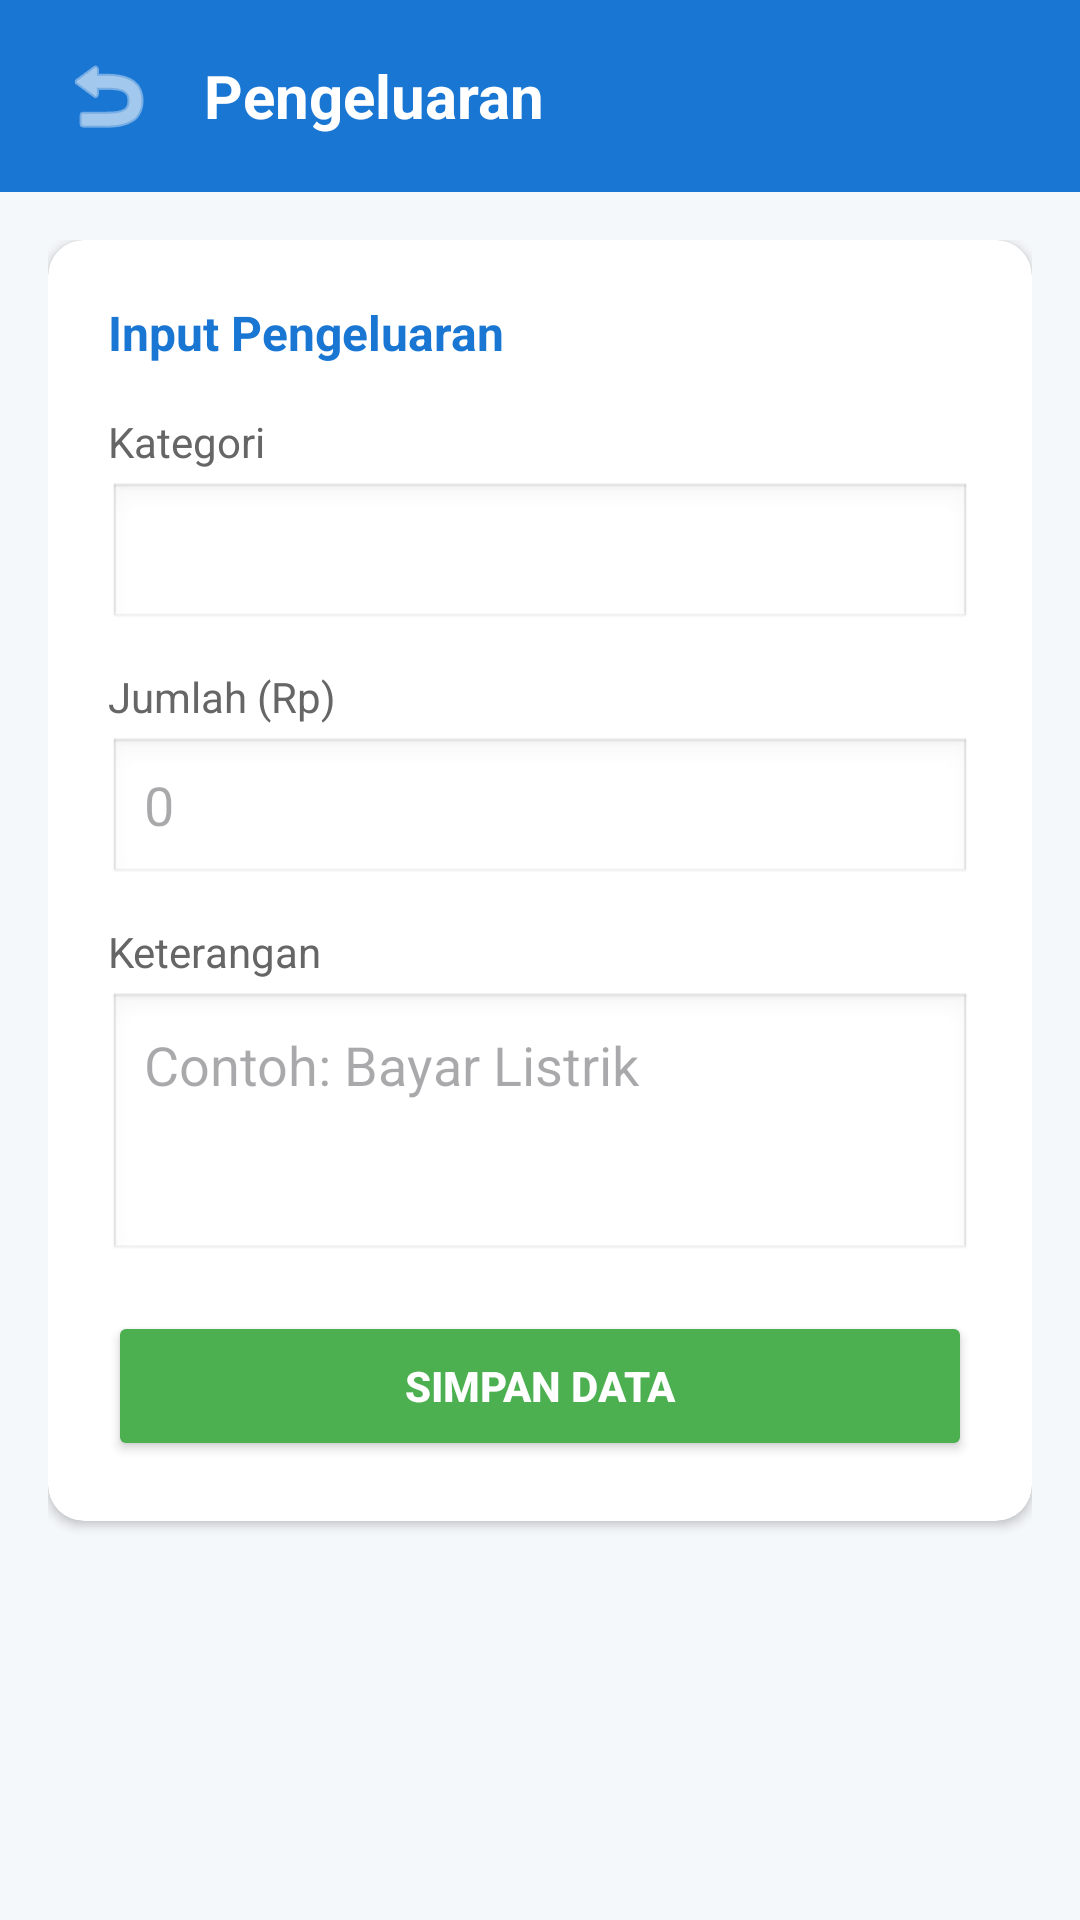

Icon click points for this 1080w x 1920h phone screenshot, format point (x, y):
revert: point (109, 96)
